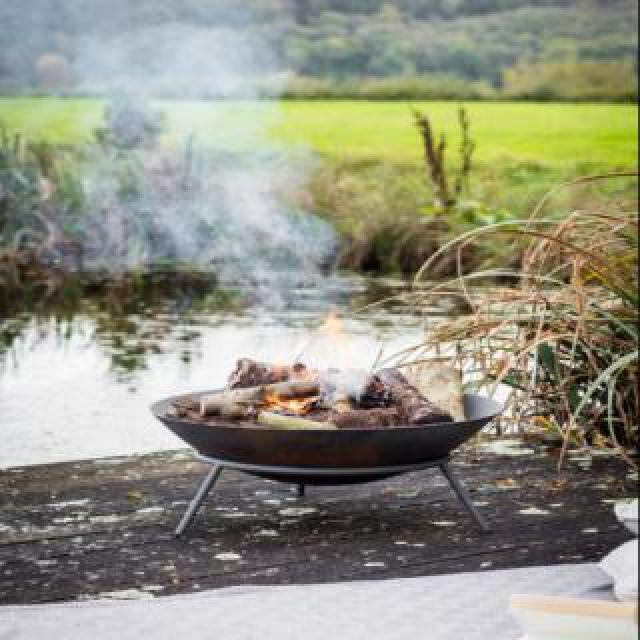smoke: (2, 4, 382, 378)
zfire: (250, 384, 310, 424)
